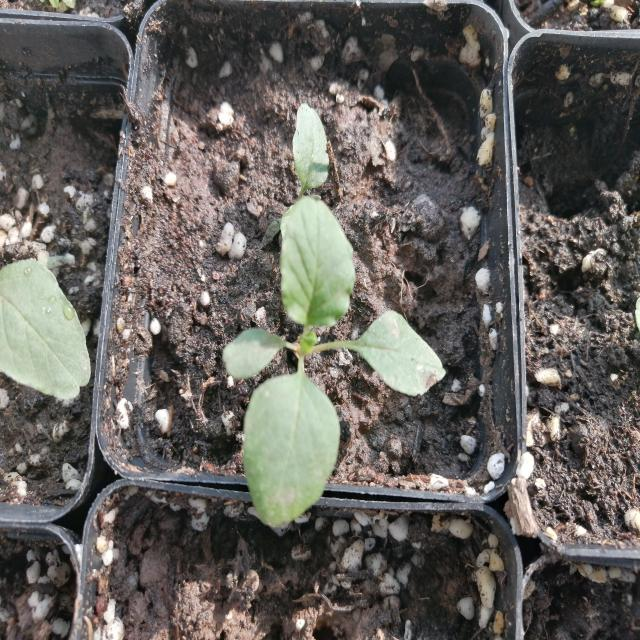pigweed: (230, 192, 456, 528)
